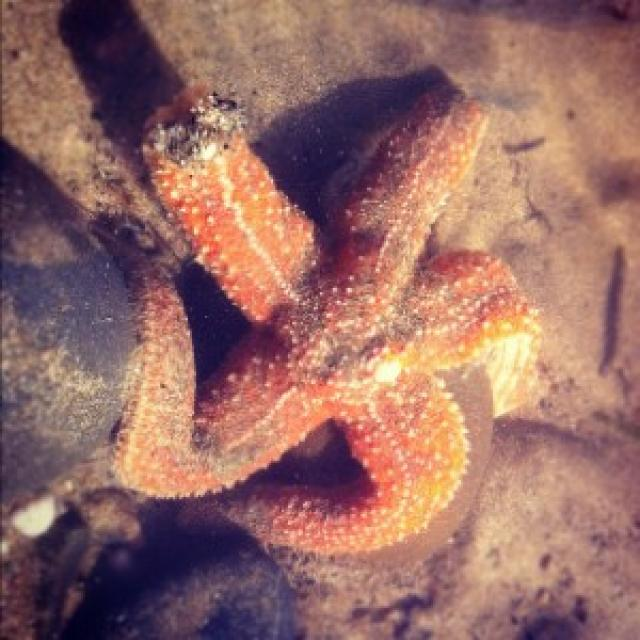Starfish: (112, 67, 538, 556)
